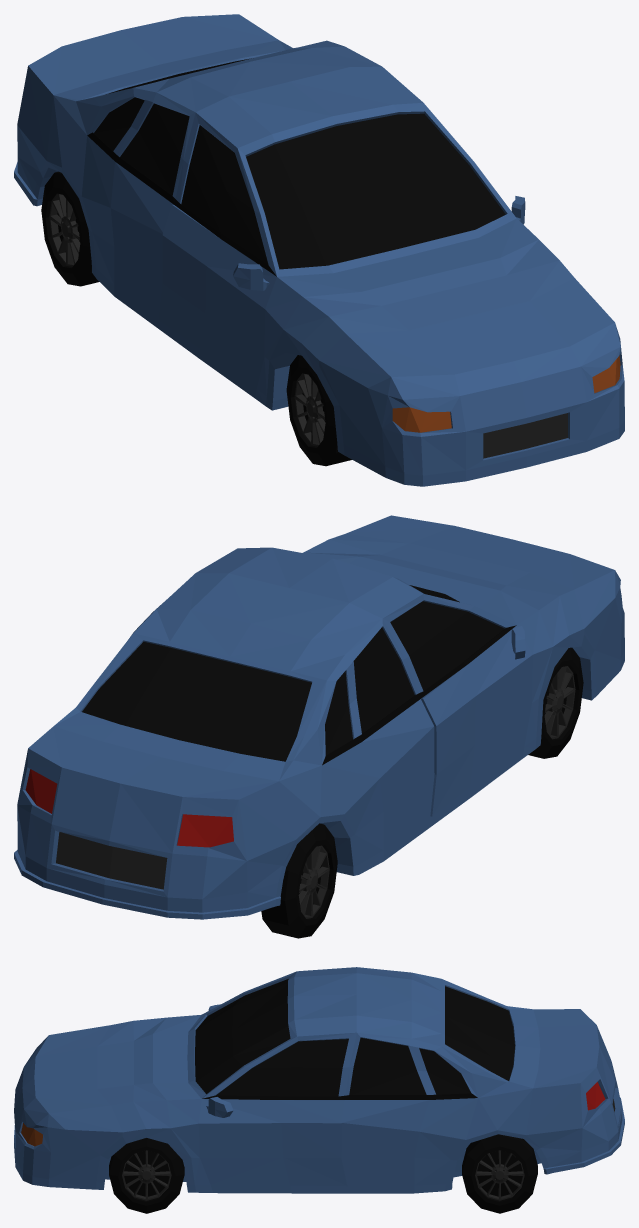
Rendered from modern_sedan.obj.
3 views of the same model, one above another, from view 1: azimuth 30°, elevation 25°; view 2: azimuth 150°, elevation 25°; view 3: azimuth 270°, elevation 25° (orthographic). The views are drawn at different scales.
Visible parts, largest first — view 1: Blue, Windows, Black, Grey, Headlights; view 2: Blue, Windows, Black, Grey, TailLights; view 3: Blue, Windows, Black, Grey, TailLights.
Part boxes in pixels (left/top/right/bottom): Blue: left=14, top=14, right=624, bottom=486; Windows: left=94, top=58, right=505, bottom=269; Black: left=41, top=132, right=351, bottom=466; Grey: left=49, top=193, right=567, bottom=458; Headlights: left=392, top=355, right=620, bottom=432; Blue: left=14, top=515, right=624, bottom=919; Windows: left=82, top=585, right=504, bottom=761; Black: left=261, top=625, right=583, bottom=938; Grey: left=56, top=666, right=575, bottom=918; TailLights: left=25, top=769, right=233, bottom=847; Blue: left=14, top=967, right=624, bottom=1193; Windows: left=195, top=979, right=514, bottom=1096; Black: left=109, top=1093, right=537, bottom=1213; Grey: left=122, top=1099, right=615, bottom=1200; TailLights: left=586, top=1082, right=605, bottom=1110.
Bounding box in the file's own units: 1.82 × 1.46 × 4.58.
